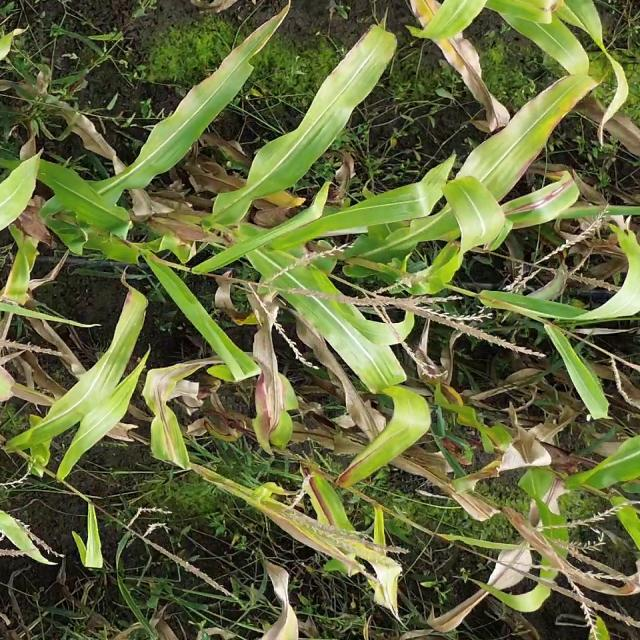northern-leaf-blight: (141, 376, 193, 469), (509, 185, 572, 222), (256, 396, 295, 449)
